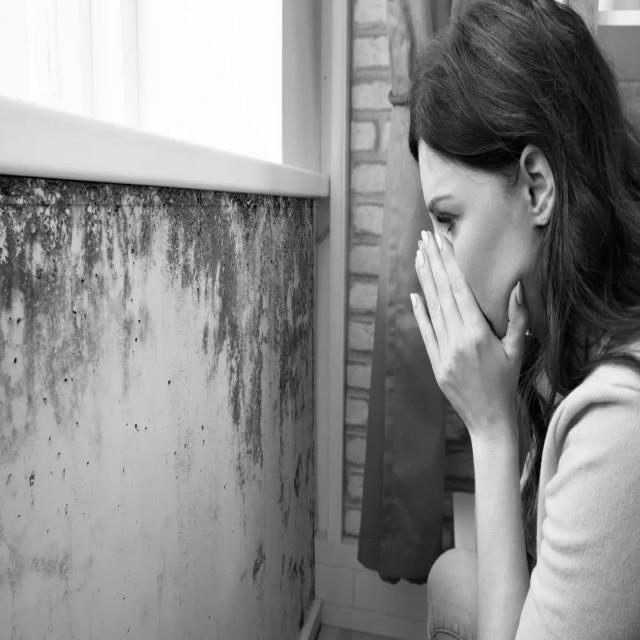stain marks: (0, 171, 337, 631)
